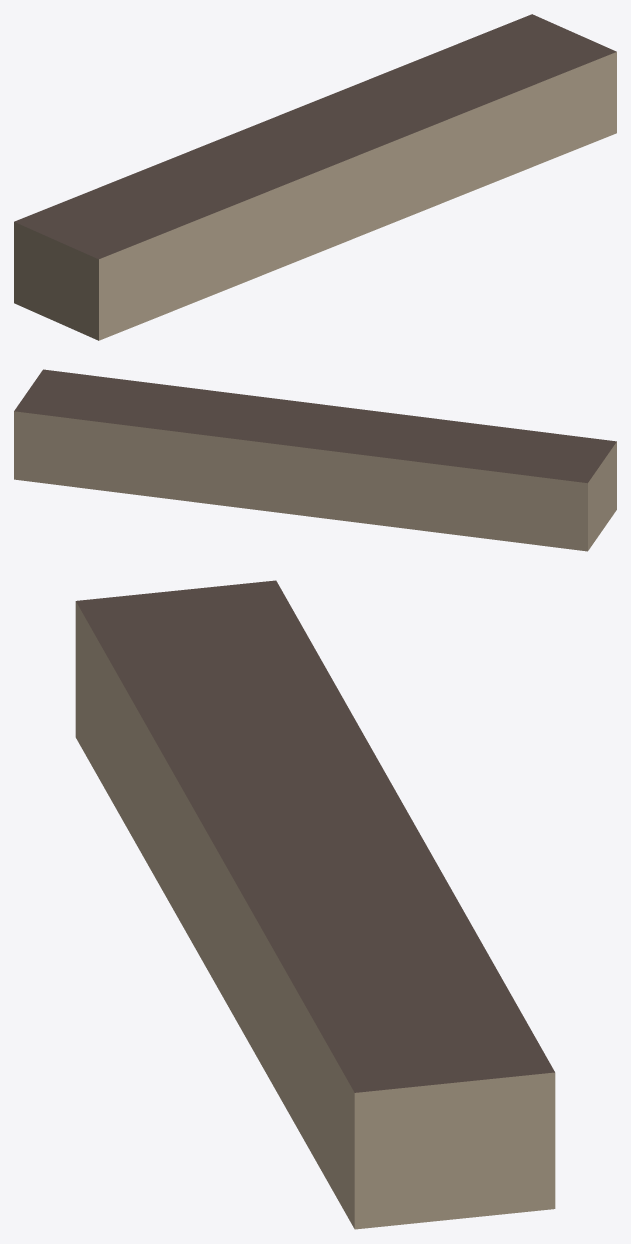
The picture shows the model from 3 angles, top to bottom: view 1: azimuth 30°, elevation 25°; view 2: azimuth 150°, elevation 25°; view 3: azimuth 270°, elevation 25°; orthographic projection. The views are drawn at different scales.
Parts seen in each view (by area): view 1: HP-w1233759517; view 2: HP-w1233759517; view 3: HP-w1233759517.
Boxes of the visible parts, x1=… form: HP-w1233759517: x1=14, y1=14, x2=616, y2=340; HP-w1233759517: x1=14, y1=369, x2=616, y2=551; HP-w1233759517: x1=75, y1=580, x2=555, y2=1229.
Bounding box in the file's own units: 72.43 × 9 × 28.64.
